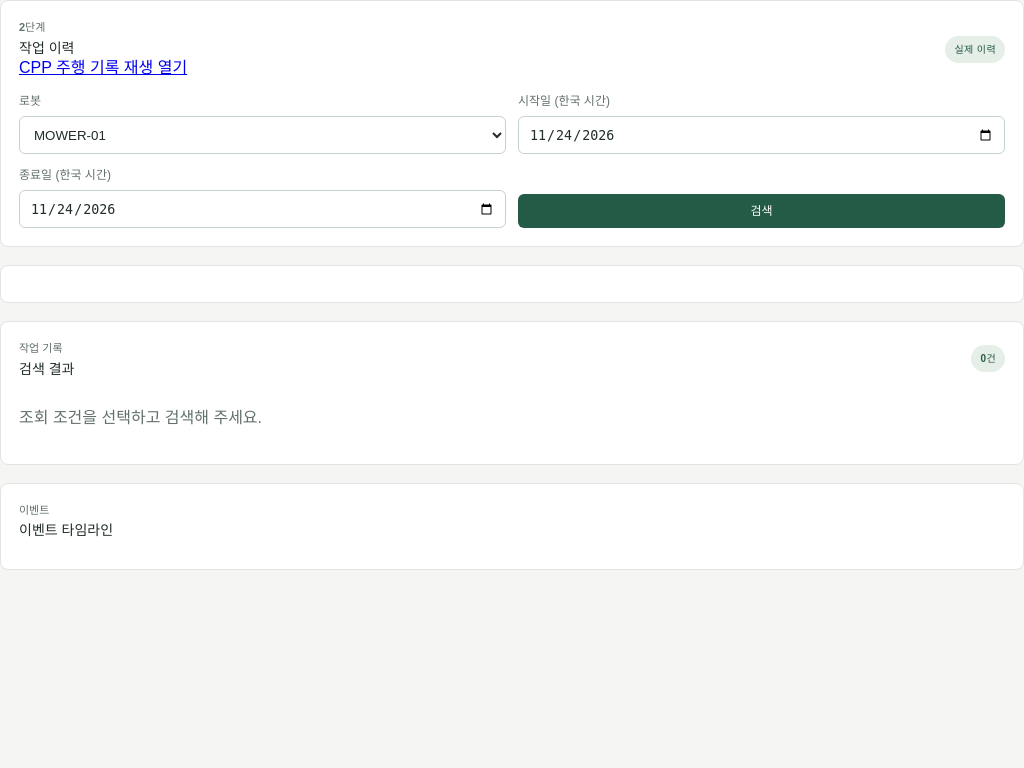
예초 추정 면적과 출처·부분 집계를 표시하고 관측이 없으면 미집계로 둔다
This screenshot has width=1024, height=768.
Click the button "검색". click: (762, 211)
box: [518,194,1005,228]
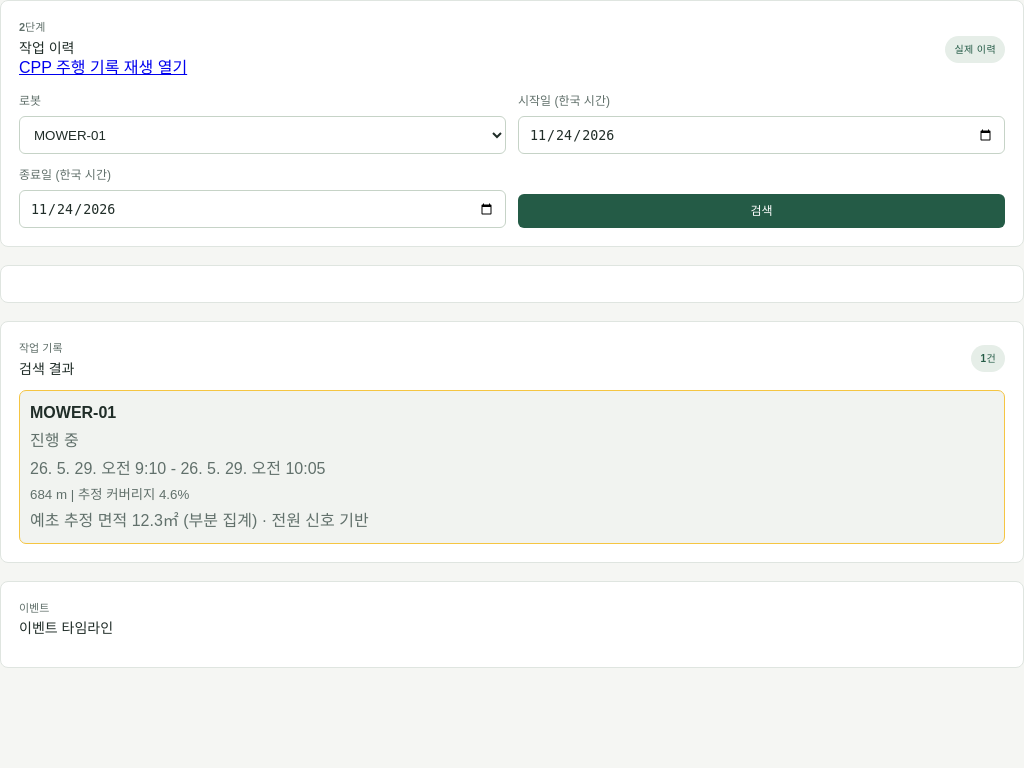
Expected: the text "예초 추정 면적 12.3㎡ (부분 집계) · 전원 신호 기반" is shown, [30,512,369,529]
Expected: the text "684 m | 추정 커버리지 4.6%" is shown, [30,487,189,502]
Click the button "검색". click: (762, 211)
box: [518,194,1005,228]
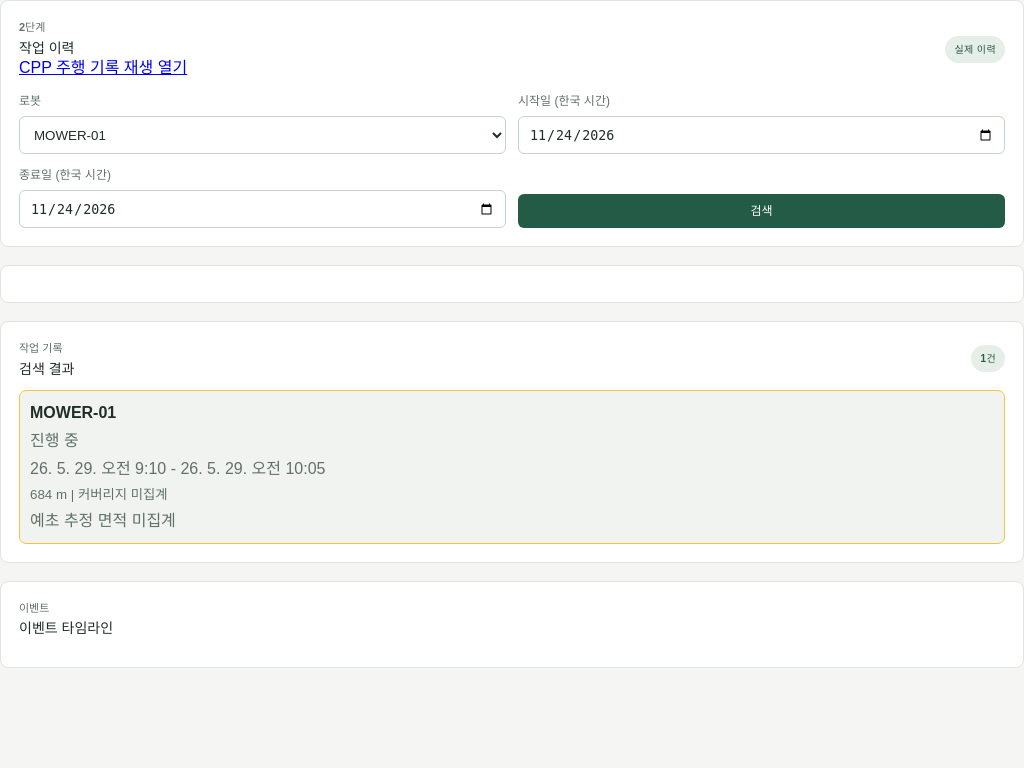
Expected: the text "예초 추정 면적 미집계" is shown, [30,512,176,529]
